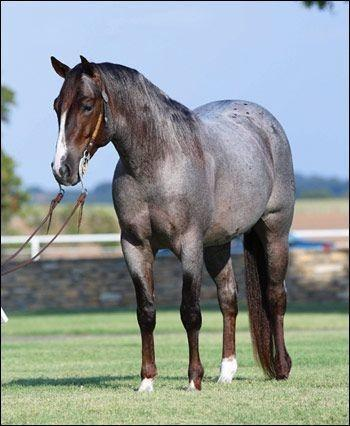horse: (49, 53, 296, 393)
